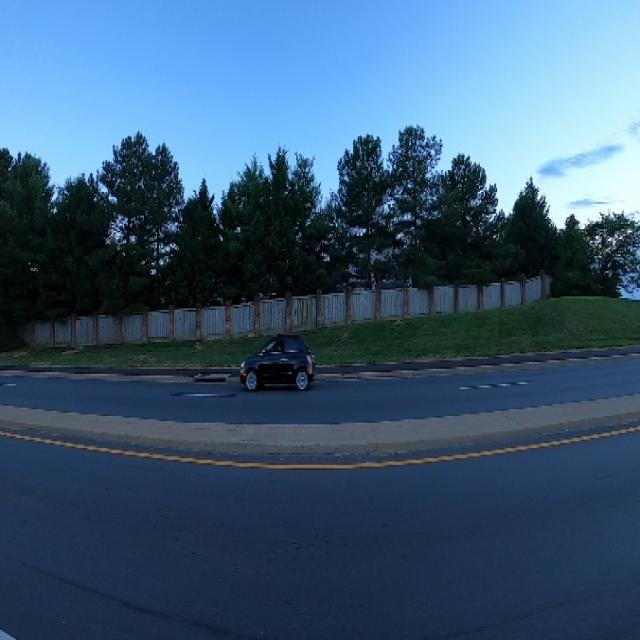car: (231, 325, 320, 399)
